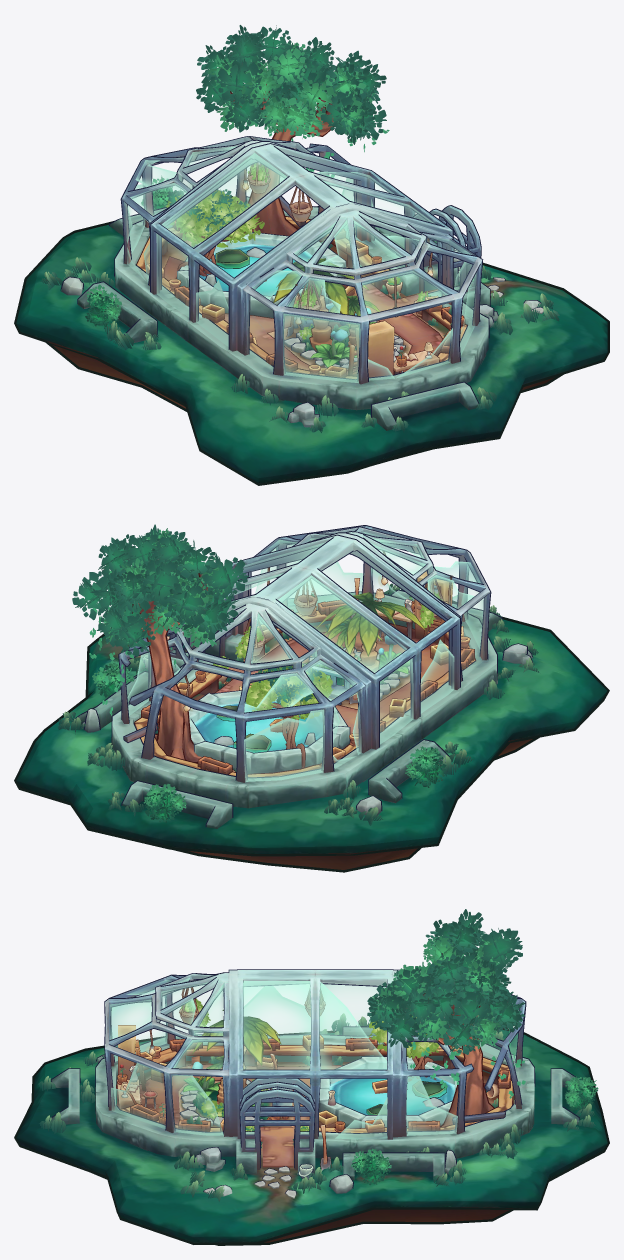
The model's file is greenhouse-center-transformed.glb.
3 views of the same model, one above another, from view 1: azimuth 30°, elevation 25°; view 2: azimuth 150°, elevation 25°; view 3: azimuth 270°, elevation 25° (orthographic). The views are drawn at different scales.
Parts seen in each view (by area): view 1: Circle.010_TT_checker_2_0, Cube.001_TT_checker_1_0, Cube.042_Glass_0, Plane.021_Leaves 1_0, Cube.001_Line art_0, Cube.006_TT_checker_3_0, Plane.021_Leaves 2_0, Plane.015_Grass_0, Circle.031_Line art Green _0, BezierCurve_TT_checker_4_0, Plane.018_Leaves 4_0, Cube.006_Line art _Red_0 (+3 smaller); view 2: Circle.010_TT_checker_2_0, Cube.001_TT_checker_1_0, Cube.042_Glass_0, Plane.021_Leaves 1_0, Cube.001_Line art_0, Cube.006_TT_checker_3_0, BezierCurve_TT_checker_4_0, Plane.015_Grass_0, Plane.021_Leaves 2_0, Circle.031_Line art Green _0, Cube.006_Line art _Red_0, Plane.018_Leaves 4_0 (+3 smaller); view 3: Circle.010_TT_checker_2_0, Cube.001_TT_checker_1_0, Cube.042_Glass_0, Plane.021_Leaves 1_0, Cube.006_TT_checker_3_0, Cube.001_Line art_0, Plane.015_Grass_0, Plane.021_Leaves 2_0, Circle.031_Line art Green _0, Cube.006_Line art _Red_0, BezierCurve_TT_checker_4_0, Circle.034_Material.003_0 (+4 smaller).
Part boxes in pixels (x1,y1,x2,y2): Circle.010_TT_checker_2_0: (16,163,607,483); Cube.001_TT_checker_1_0: (77,136,489,430); Cube.042_Glass_0: (124,146,477,382); Plane.021_Leaves 1_0: (163,25,386,336); Cube.001_Line art_0: (60,136,543,422); Cube.006_TT_checker_3_0: (137,217,466,378); Plane.021_Leaves 2_0: (86,42,436,320); Plane.015_Grass_0: (40,189,559,432); Circle.031_Line art Green _0: (14,194,609,485); BezierCurve_TT_checker_4_0: (176,84,451,361); Plane.018_Leaves 4_0: (164,163,430,340); Cube.006_Line art _Red_0: (136,91,467,376); Circle.010_TT_checker_2_0: (16,551,607,869); Cube.001_TT_checker_1_0: (75,526,501,828); Cube.042_Glass_0: (127,532,486,781); Plane.021_Leaves 1_0: (72,524,352,705); Cube.001_Line art_0: (73,525,533,826); Cube.006_TT_checker_3_0: (135,571,475,777); BezierCurve_TT_checker_4_0: (138,573,414,768); Plane.015_Grass_0: (57,583,539,825); Plane.021_Leaves 2_0: (92,528,442,811); Circle.031_Line art Green _0: (14,592,609,872); Cube.006_Line art _Red_0: (132,551,476,774); Plane.018_Leaves 4_0: (213,591,441,719); Circle.010_TT_checker_2_0: (16,987,607,1242); Cube.001_TT_checker_1_0: (51,970,579,1180); Cube.042_Glass_0: (109,977,517,1139); Plane.021_Leaves 1_0: (367,909,525,1054); Cube.006_TT_checker_3_0: (117,1025,512,1132); Cube.001_Line art_0: (51,969,579,1194); Plane.015_Grass_0: (38,1013,595,1201); Plane.021_Leaves 2_0: (211,936,598,1173); Circle.031_Line art Green _0: (14,1028,609,1245); Cube.006_Line art _Red_0: (116,953,513,1168); BezierCurve_TT_checker_4_0: (119,966,493,1126); Circle.034_Material.003_0: (192,1009,281,1082).
Size of the model in its own units: 20.06 by 12.93 by 23.94.
Materials: 17 (14 with a texture image).
